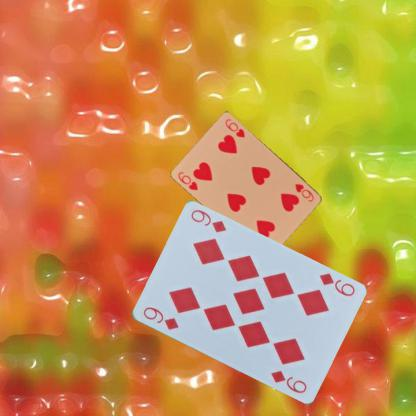6h: (176, 169, 199, 192), (292, 181, 315, 203)
9d: (316, 270, 356, 298), (140, 305, 180, 331)
